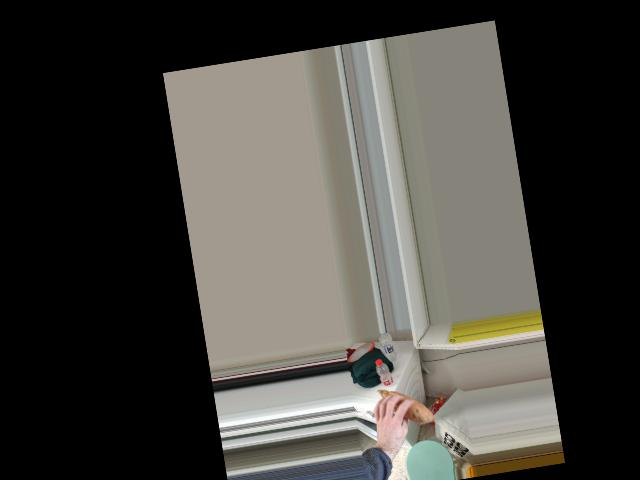sweet_potato: (373, 384, 430, 429)
